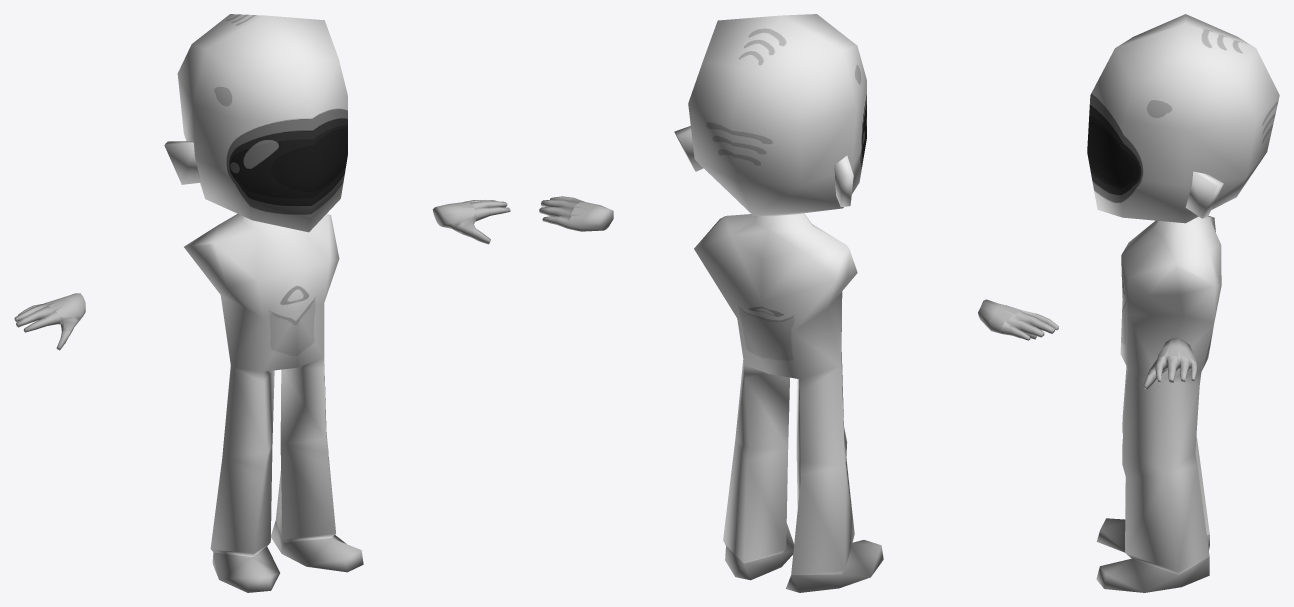
File: Male.FBX
3 views of the same model, side by side, from view 1: azimuth 30°, elevation 25°; view 2: azimuth 150°, elevation 25°; view 3: azimuth 270°, elevation 25° (orthographic). The views are drawn at different scales.
Parts seen in each view (by area): view 1: Male001; view 2: Male001; view 3: Male001.
Part boxes in pixels (x1,y1,x2,y2): Male001: [14, 14, 510, 592]; Male001: [539, 14, 1058, 592]; Male001: [1087, 14, 1279, 592].
Size of the model in its own units: 200 by 209 by 67.99.
1 material, 1 textured.
